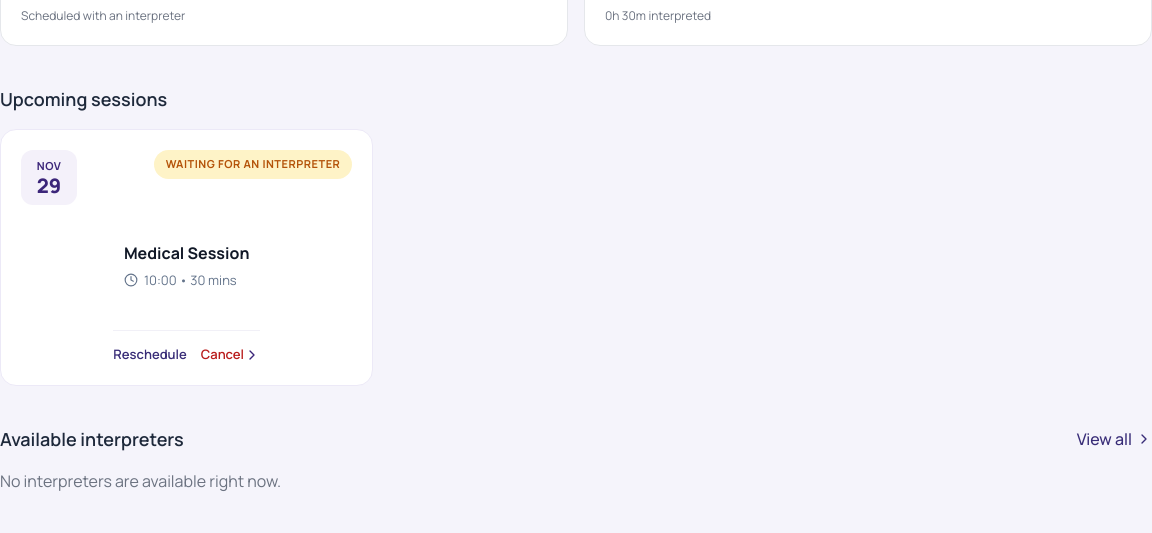
Scenario: DashboardPage (deaf) › booked sessions routing › cancels a booking and removes it from the list
The width and height of the screenshot is (1152, 533).
(page scrolled)
What coordinates should you click on to do the following:
click the button "Cancel"
I would click on:
 (222, 355)
Its box is [201,345,244,364].
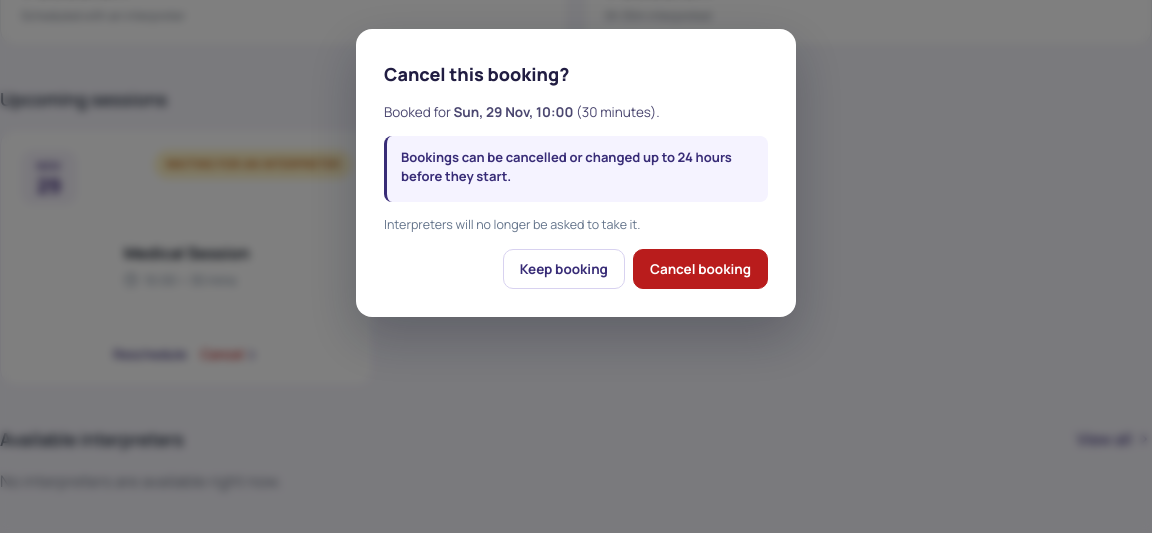
# V2-051: confirm in the dialog, which shows the notice rule first.
What coordinates should you click on to do the following:
click the button "Cancel booking"
I would click on:
 (700, 269)
Its box is [633,249,768,289].
(page scrolled)
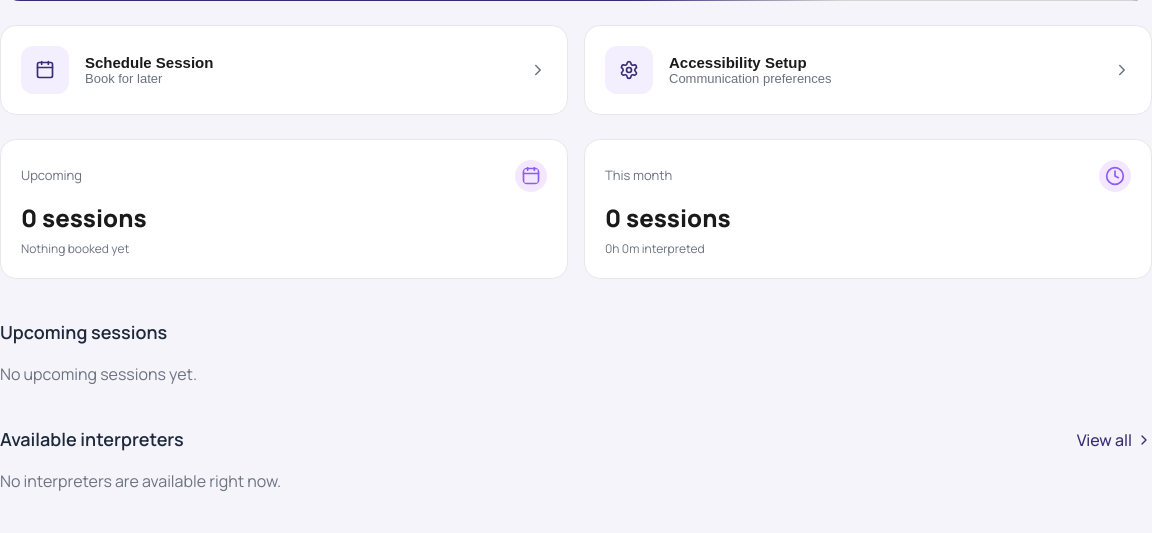
Now the button "Cancel" is gone
Now the text "No upcoming sessions yet." is shown, box [0,363,197,385]
